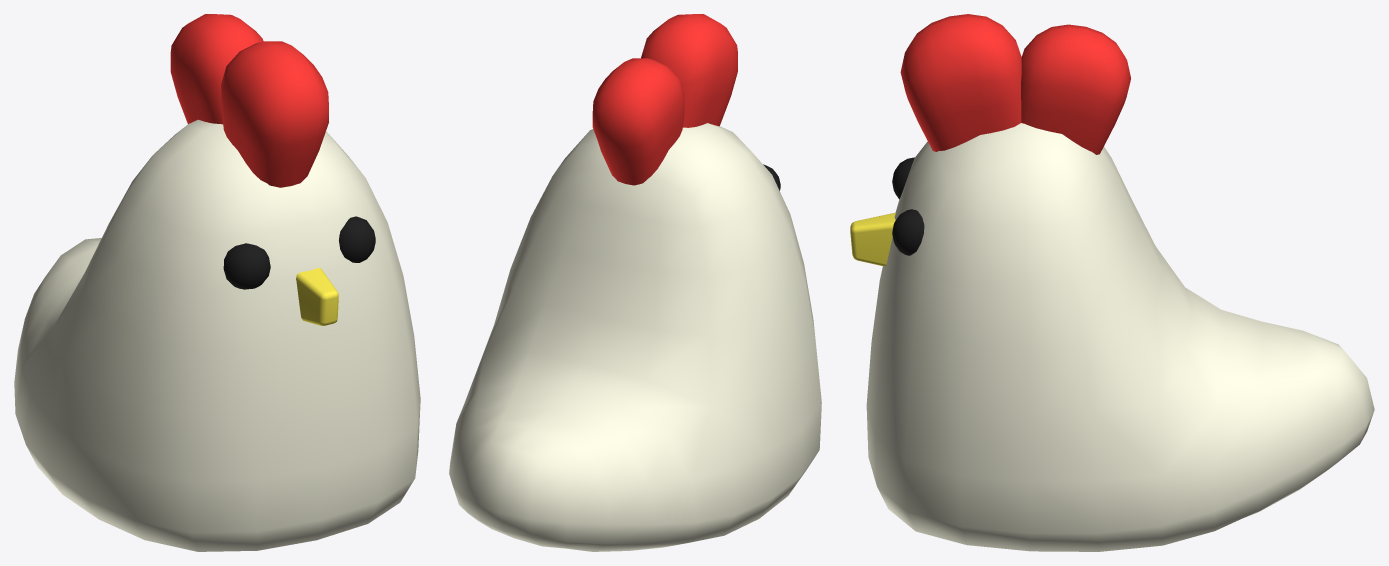
Rendered from Farm_1_Chicken_1.glb.
3 renders of one model, left to right at view 1: azimuth 30°, elevation 25°; view 2: azimuth 150°, elevation 25°; view 3: azimuth 270°, elevation 25°, orthographic. The views are drawn at different scales.
Parts seen in each view (by area): view 1: Farm_1_Chicken_1; view 2: Farm_1_Chicken_1; view 3: Farm_1_Chicken_1.
Boxes of the visible parts, box(x1,y1,x2,y2) form: Farm_1_Chicken_1: box(14, 14, 420, 551); Farm_1_Chicken_1: box(449, 14, 821, 551); Farm_1_Chicken_1: box(850, 14, 1374, 551).
Size of the model in its own units: 0.5545 by 0.7939 by 0.794.
1 material, 1 textured.
